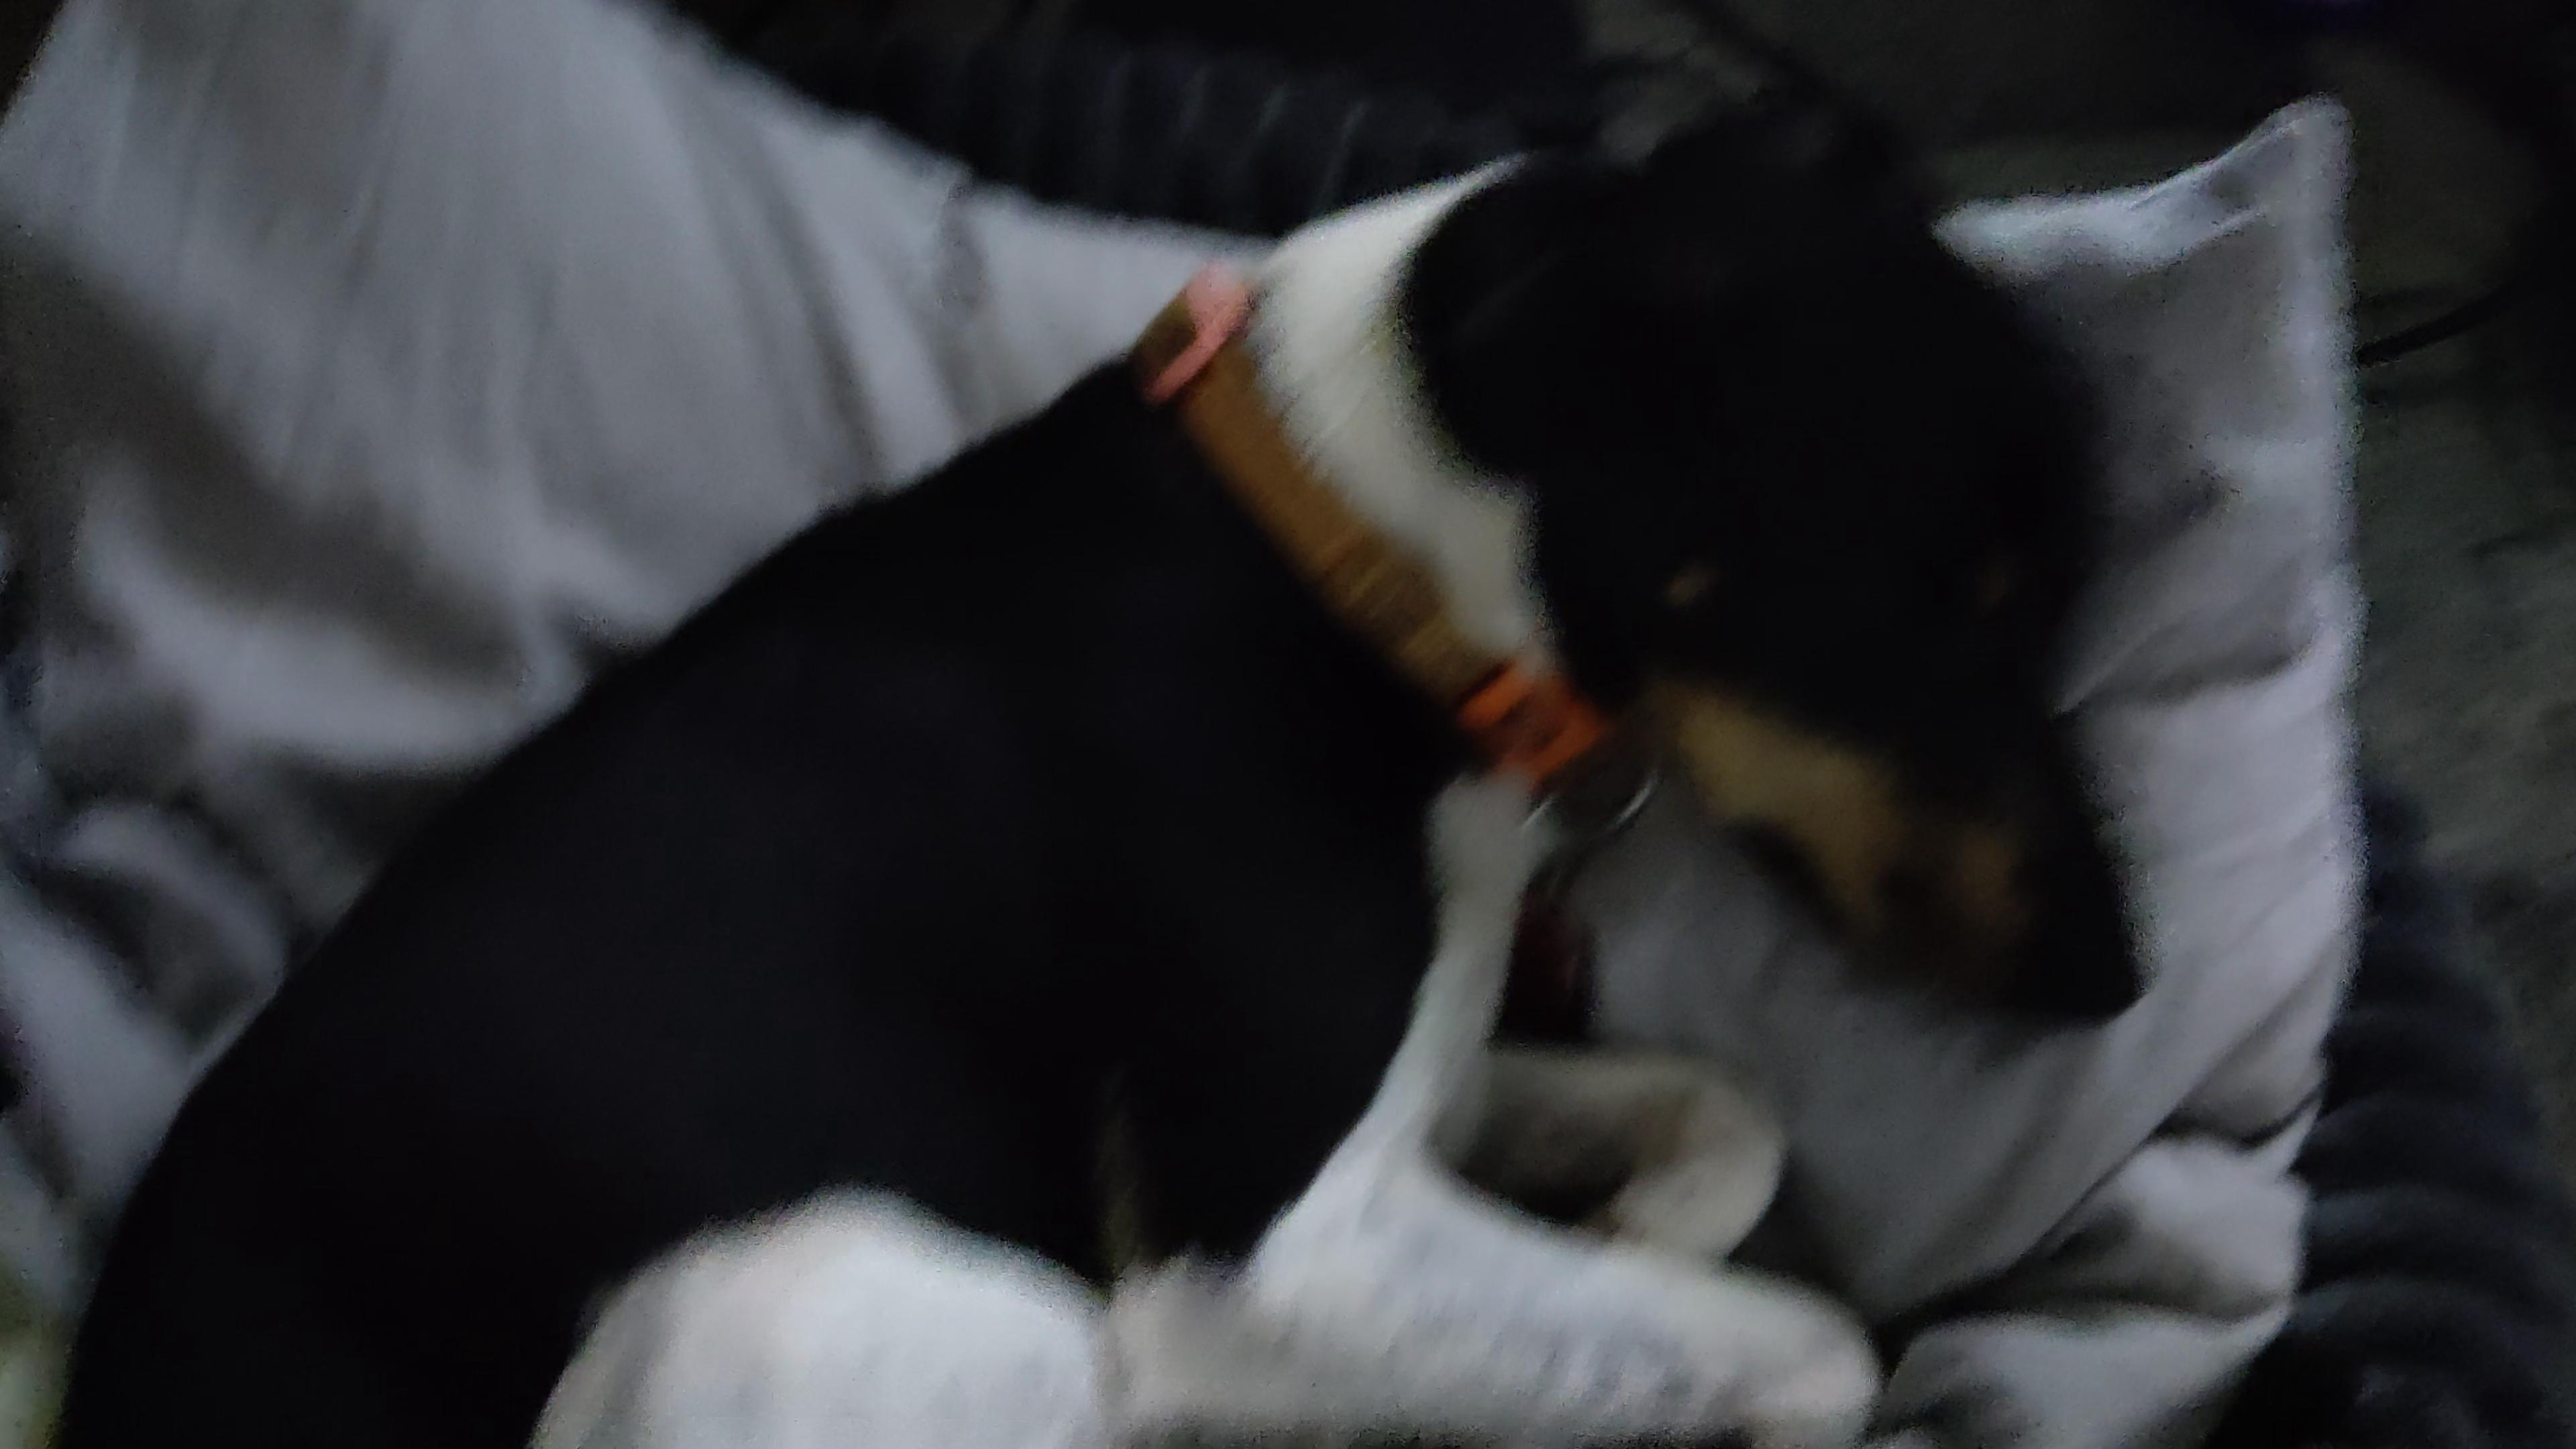Dog: (25, 74, 2167, 1449)
